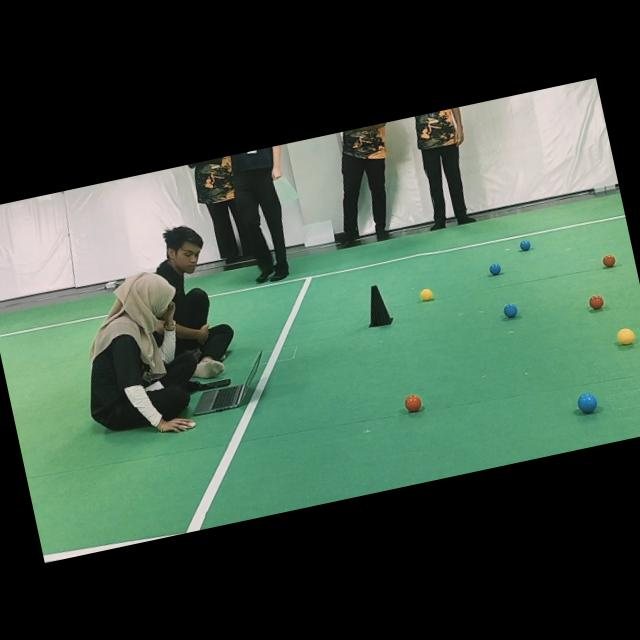ball: (577, 392, 596, 413), (404, 393, 422, 412), (588, 294, 604, 309), (503, 303, 518, 317), (602, 253, 616, 268), (420, 288, 433, 300), (520, 239, 531, 251), (489, 263, 501, 274), (619, 332, 623, 337)
